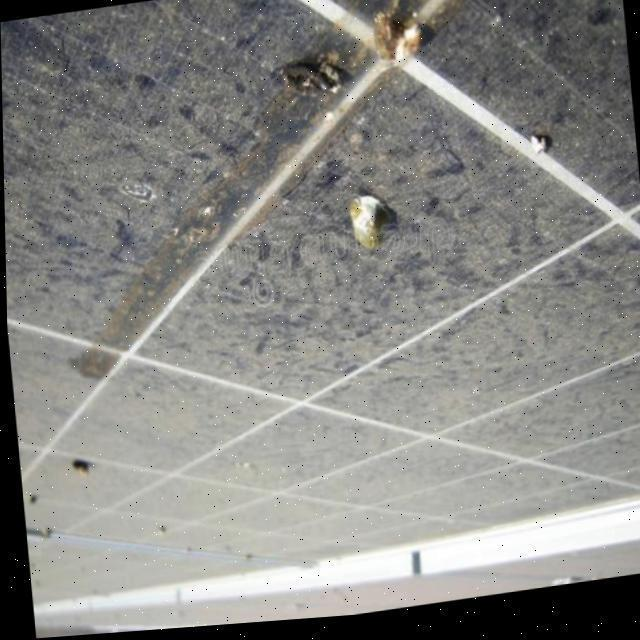Surface Contaminant: (0, 0, 640, 609)
